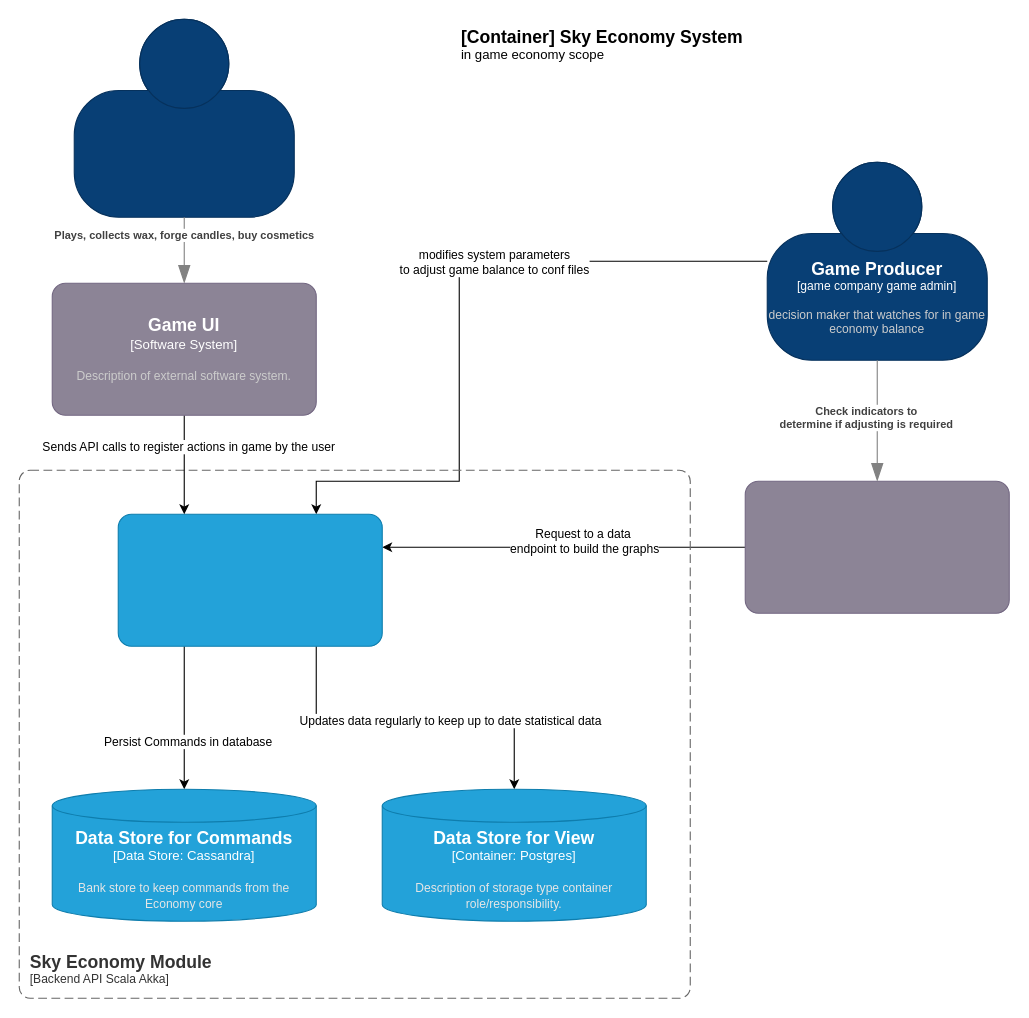
This 1029x1018 diagram has some shape labels left out. Here are the shapes that lost their labels. From the top down, the centre of each, then its label:
At [183,117]: "Player [Online User] An online indivudual identified by its email address".
At [876,546]: "reporting tool [Graphana] tool to visualize economy data".
At [249,579]: "Sky Economy API [Container: Scala Akka] API for all Economy tracking".
